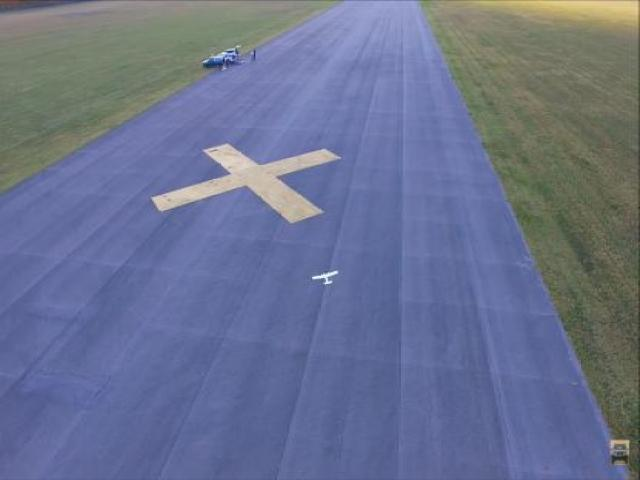uav: (311, 268, 338, 288)
